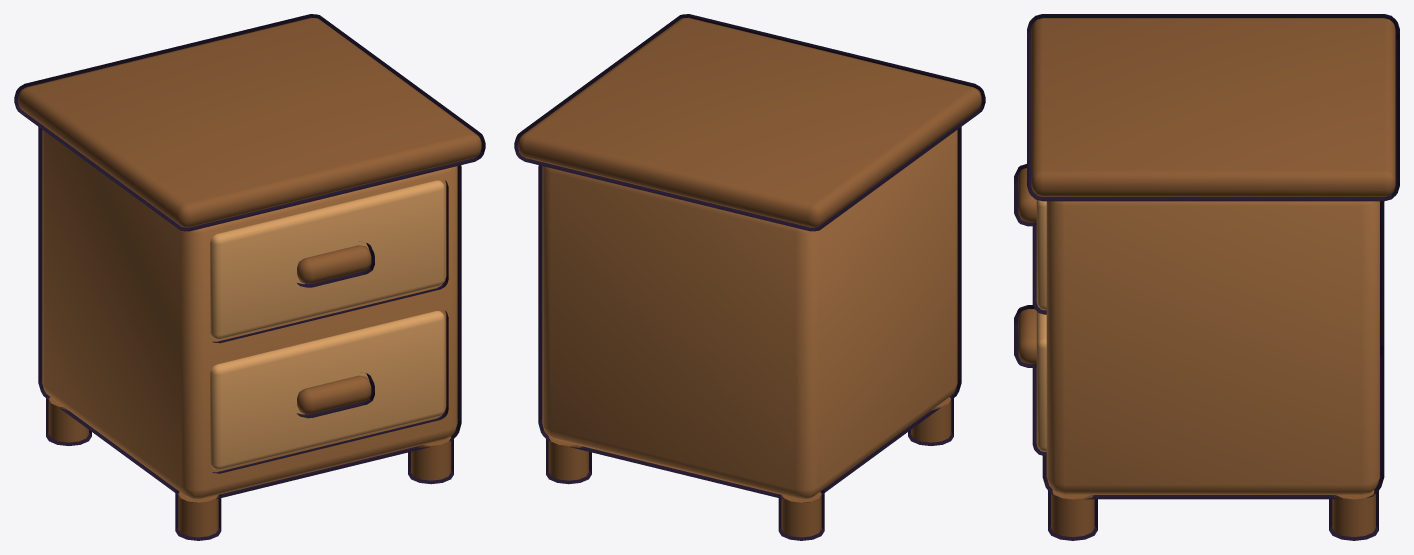
File: Nightstand.glb
3 renders of one model, left to right at view 1: azimuth 30°, elevation 25°; view 2: azimuth 150°, elevation 25°; view 3: azimuth 270°, elevation 25°, orthographic. The views are drawn at different scales.
Parts seen in each view (by area): view 1: Nightstand, Nightstand_Outline; view 2: Nightstand, Nightstand_Outline; view 3: Nightstand, Nightstand_Outline.
Boxes of the visible parts, x1,y1,x2,y2 form: Nightstand: (18,17,481,537); Nightstand_Outline: (14,14,485,540); Nightstand: (518,17,981,537); Nightstand_Outline: (514,14,985,540); Nightstand: (1018,18,1395,536); Nightstand_Outline: (1014,14,1399,540).
Bounding box in the file's own units: 7.46 × 8.01 × 7.41.
1 material, 1 textured.
